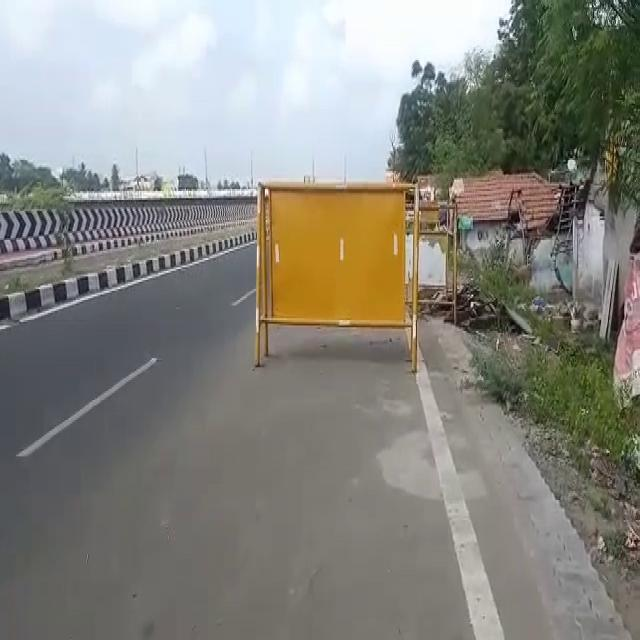fallen_object: (252, 177, 422, 372)
